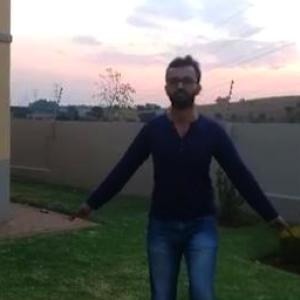land: (84, 58, 287, 298)
